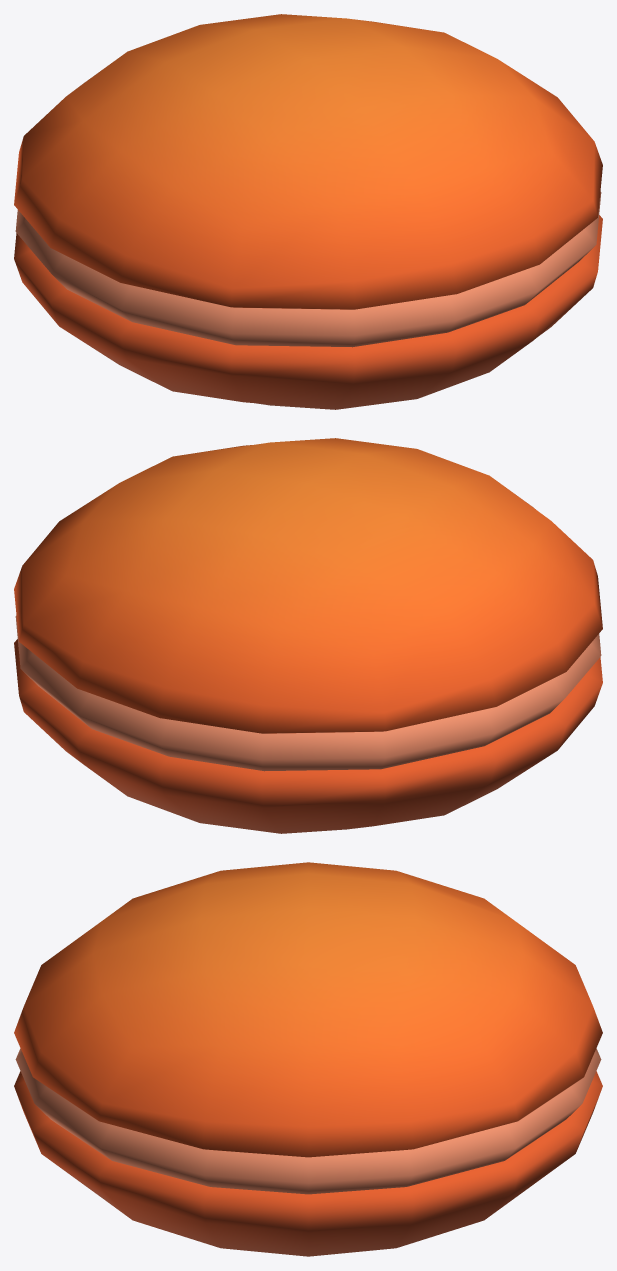
Rendered from cookie_012.glb.
3 views of the same model, one above another, from view 1: azimuth 30°, elevation 25°; view 2: azimuth 150°, elevation 25°; view 3: azimuth 270°, elevation 25° (orthographic).
Parts seen in each view (by area): view 1: cookie_012; view 2: cookie_012; view 3: cookie_012.
Part boxes in pixels (x1=…): cookie_012: x1=14, y1=14, x2=602, y2=409; cookie_012: x1=14, y1=438, x2=602, y2=833; cookie_012: x1=14, y1=862, x2=602, y2=1256.
Bounding box in the file's own units: 0.0537 × 0.0302 × 0.0537.
1 material, 1 textured.
